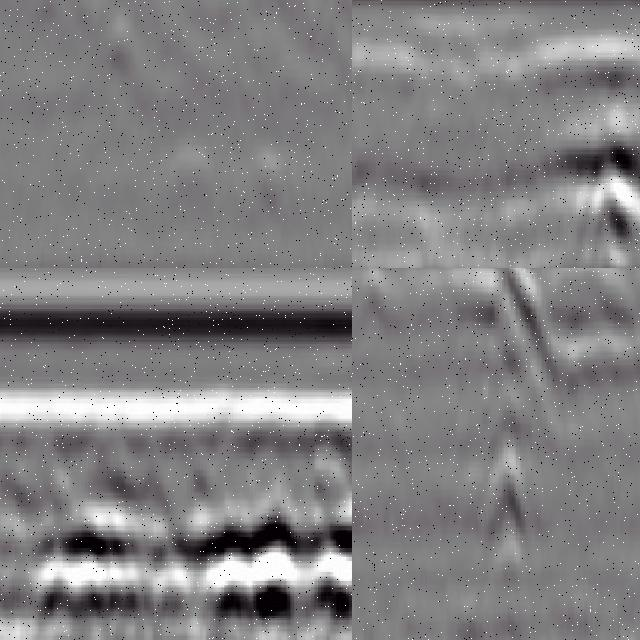crack: (464, 269, 525, 636)
loose: (31, 500, 353, 630), (552, 41, 640, 269), (530, 269, 640, 433)
